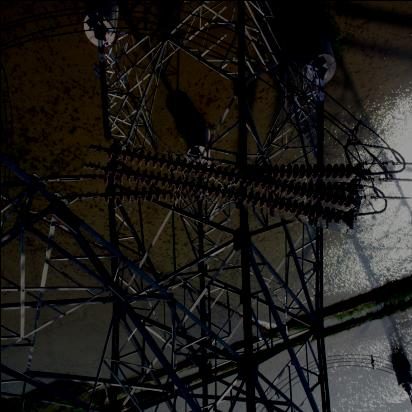insulator: (84, 149, 362, 220)
